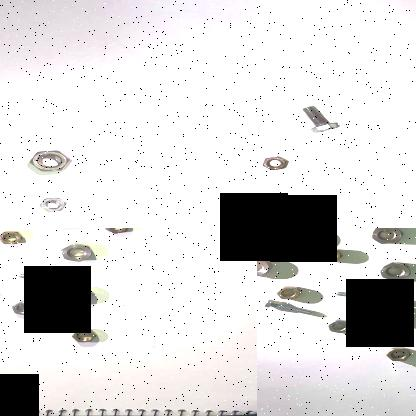Bolts: (300, 104, 344, 136), (262, 298, 314, 318), (14, 270, 73, 285), (332, 291, 388, 303)
NUTS: (24, 151, 74, 175), (32, 193, 72, 216), (62, 286, 96, 310), (260, 228, 298, 249), (57, 242, 92, 263), (376, 305, 410, 325), (375, 262, 410, 281), (68, 328, 102, 346), (368, 228, 401, 245), (382, 346, 412, 364), (11, 300, 39, 318), (272, 285, 304, 300), (259, 156, 288, 172), (316, 248, 344, 264), (0, 228, 23, 247), (326, 318, 352, 334), (257, 259, 273, 277), (101, 228, 132, 236)
